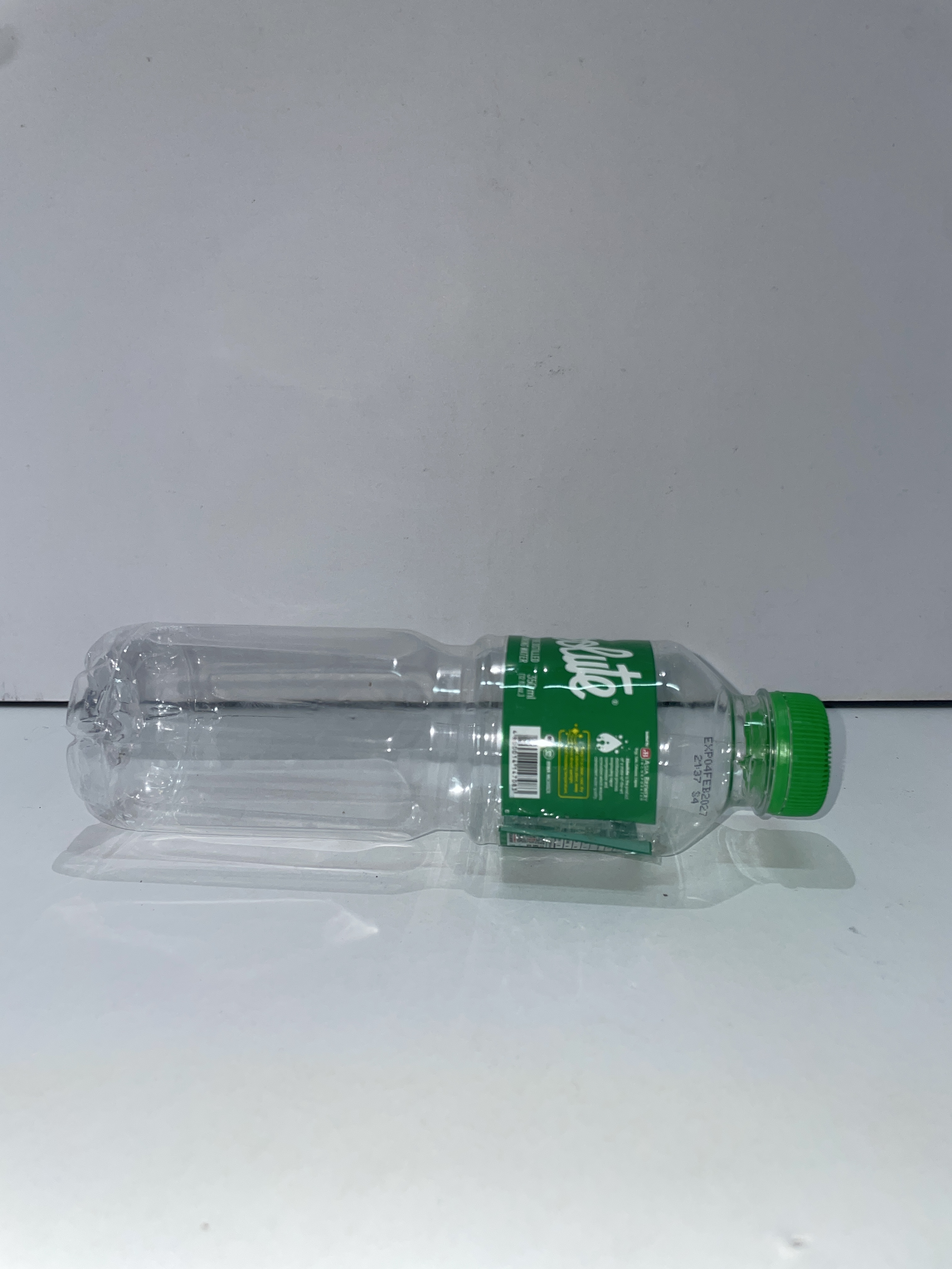Absolute 350ml: (68, 624, 830, 858)
